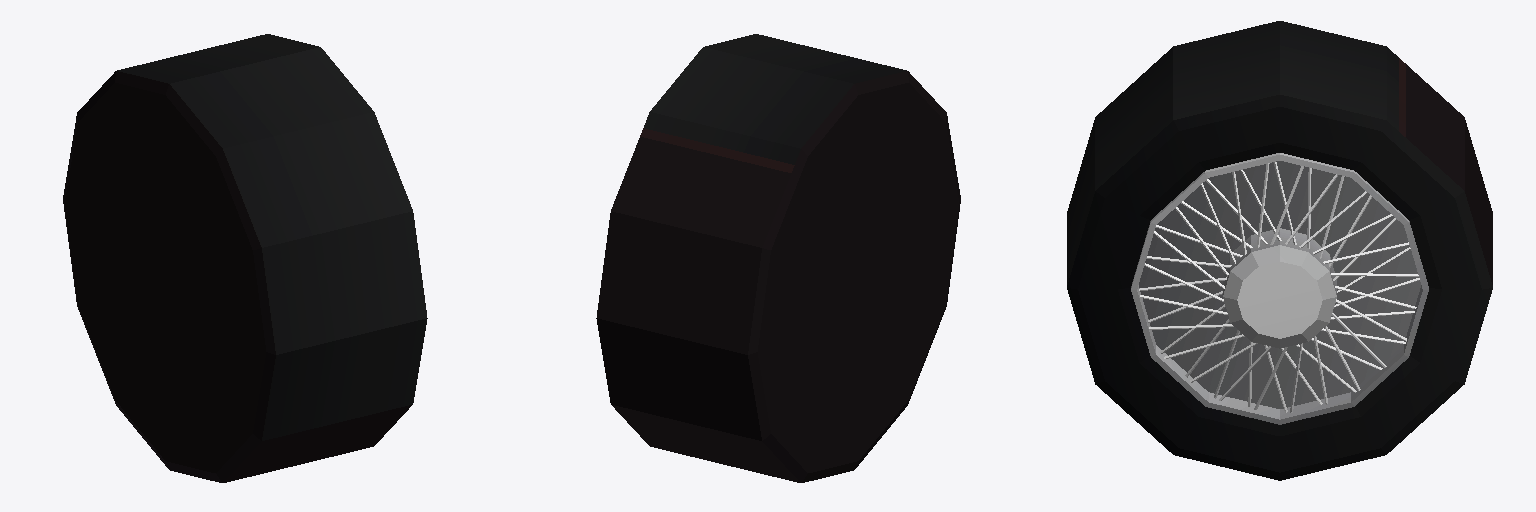
3 views of the same model, side by side, from view 1: azimuth 30°, elevation 25°; view 2: azimuth 150°, elevation 25°; view 3: azimuth 270°, elevation 25° (orthographic).
Parts seen in each view (by area): view 1: Tire_front_R_Mesh.001; view 2: Tire_front_R_Mesh.001; view 3: Tire_front_R_Mesh.001.
Boxes of the visible parts, x1=… form: Tire_front_R_Mesh.001: x1=63, y1=34, x2=427, y2=482; Tire_front_R_Mesh.001: x1=596, y1=34, x2=960, y2=482; Tire_front_R_Mesh.001: x1=1067, y1=21, x2=1492, y2=480.
Size of the model in its own units: 0.2945 by 0.6006 by 0.6006.
1 materials, 1 textured.